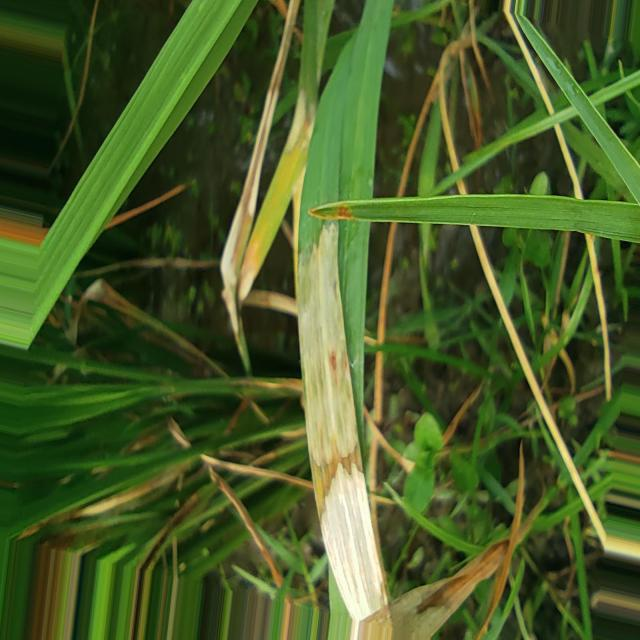Leaf_Blast: (471, 225, 606, 545), (475, 442, 525, 638), (374, 222, 398, 427), (201, 455, 314, 489), (105, 184, 188, 230), (442, 380, 484, 446), (398, 113, 424, 197), (369, 433, 379, 493), (371, 500, 379, 541)
Rice False Smut: (298, 222, 388, 620), (220, 0, 299, 311), (321, 465, 381, 620), (284, 78, 315, 154), (239, 265, 260, 302)
